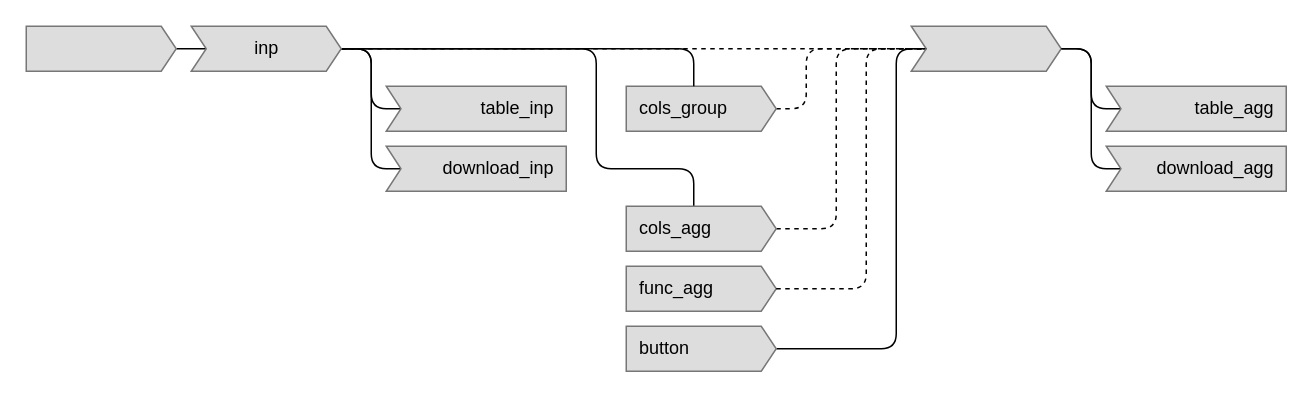
Some shapes in this 1313 by 398 pixel diagram are drawn without their labels. Here are the shapes that lost their labels. From the top down, the box of each, then its label:
(25, 25, 176, 71): upload_inp
(910, 25, 1061, 71): agg
